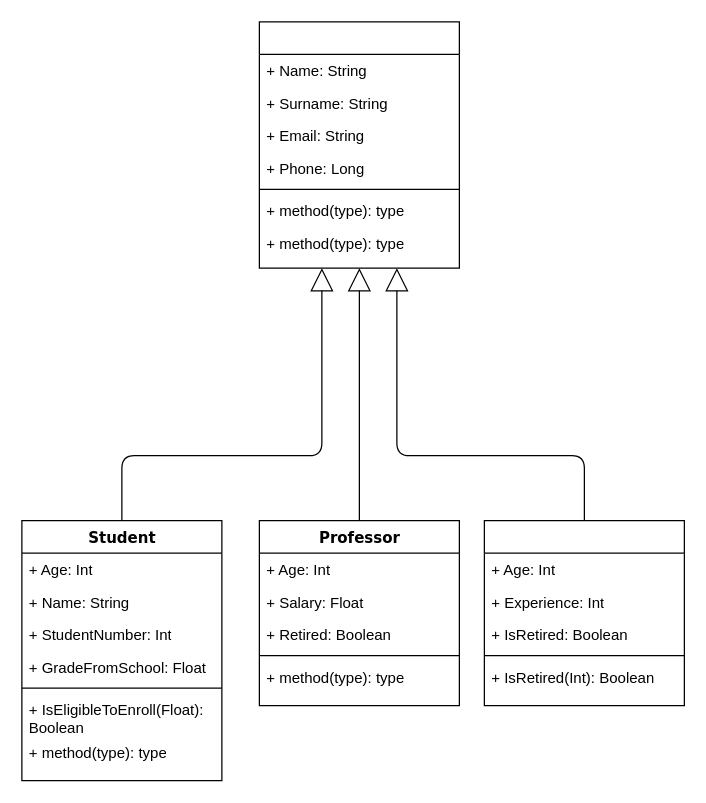
Some shapes in this 706 by 803 pixel diagram are drawn without their labels. The shapes that lost their labels are listed below. From the top down, each one's box as (x1, y1, x2, y2) in pixels, then its label:
(258, 21, 459, 268): Person
(483, 519, 684, 706): Teacher
